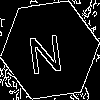N: (25, 25, 65, 75)
